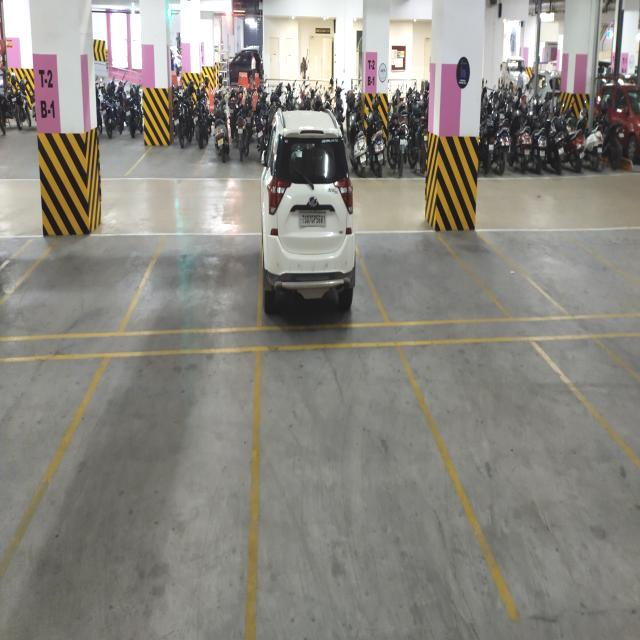car: (268, 201, 368, 335)
free: (258, 373, 433, 602), (72, 384, 224, 616), (464, 356, 602, 551), (381, 216, 463, 328), (40, 230, 121, 334), (169, 233, 240, 345)
